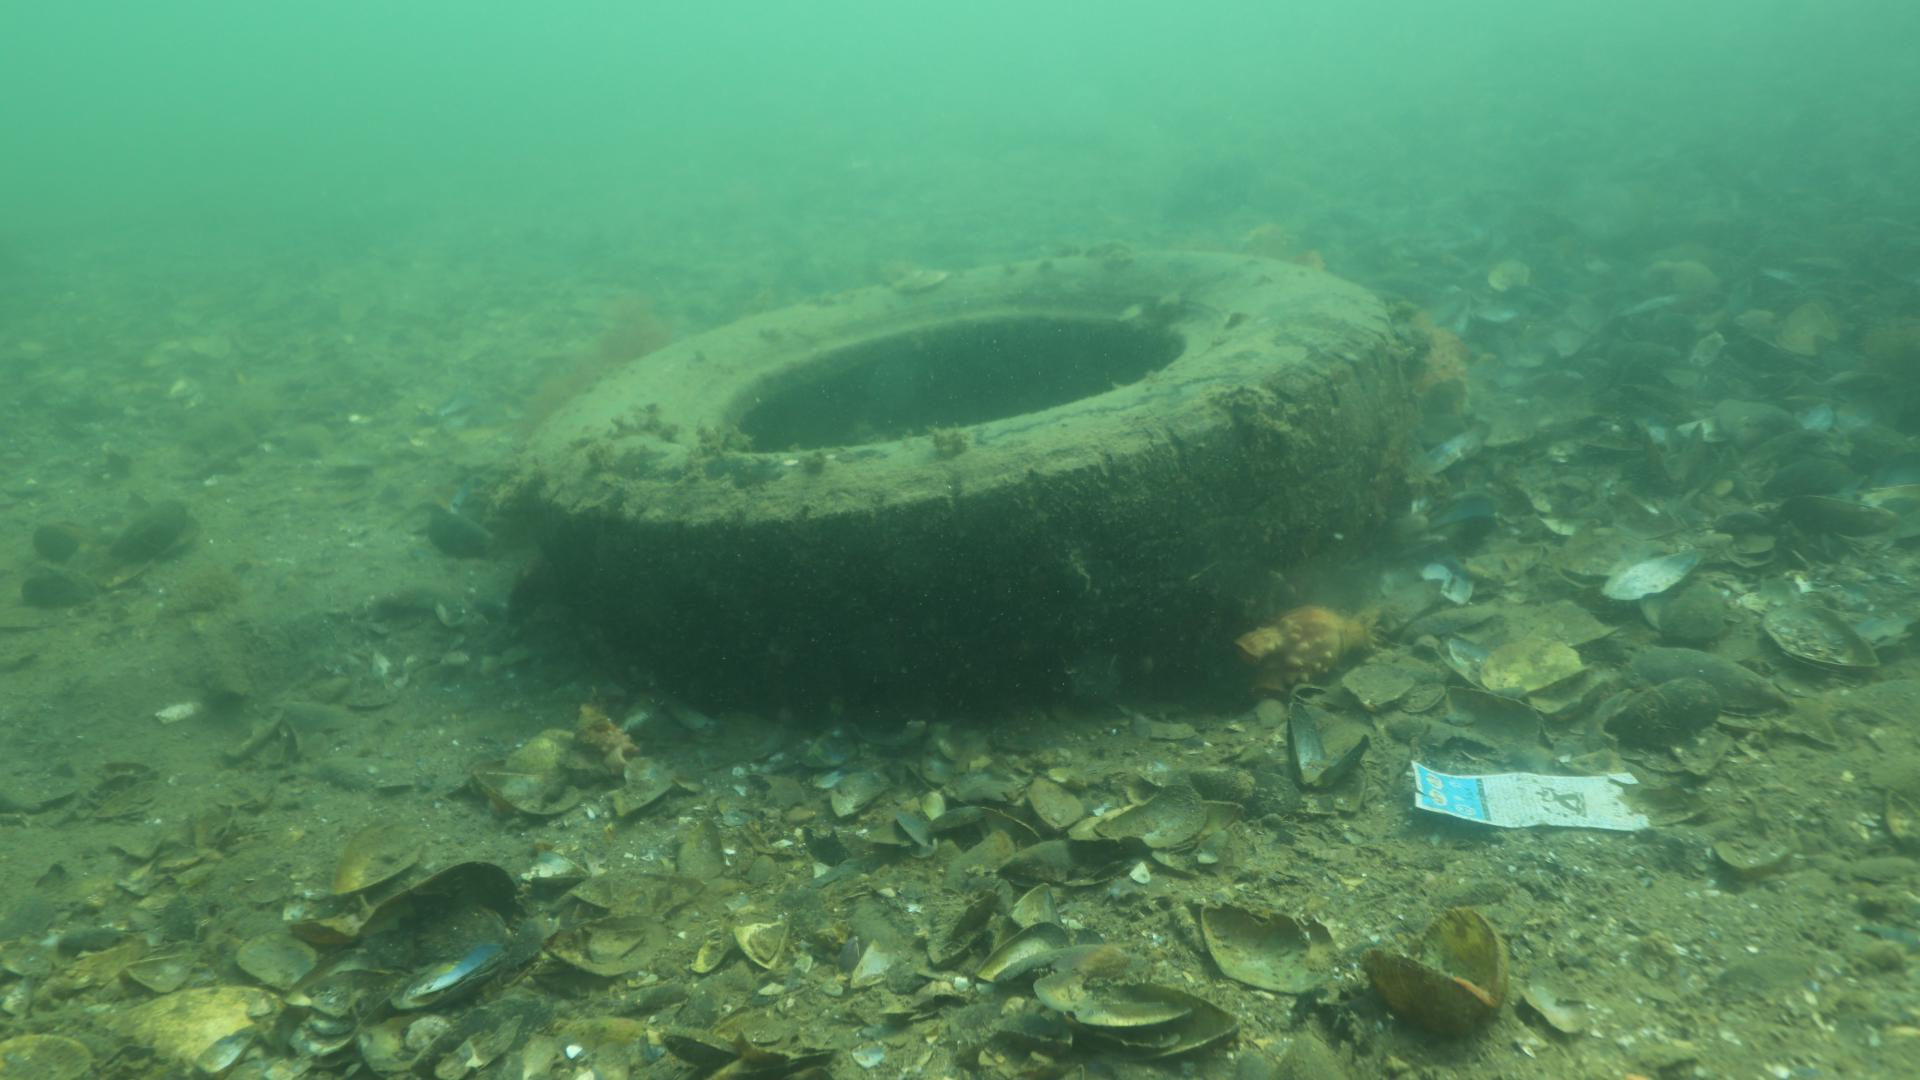tire: (516, 247, 1408, 723)
